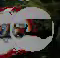Heavy Vehicles: (7, 5, 57, 55)
